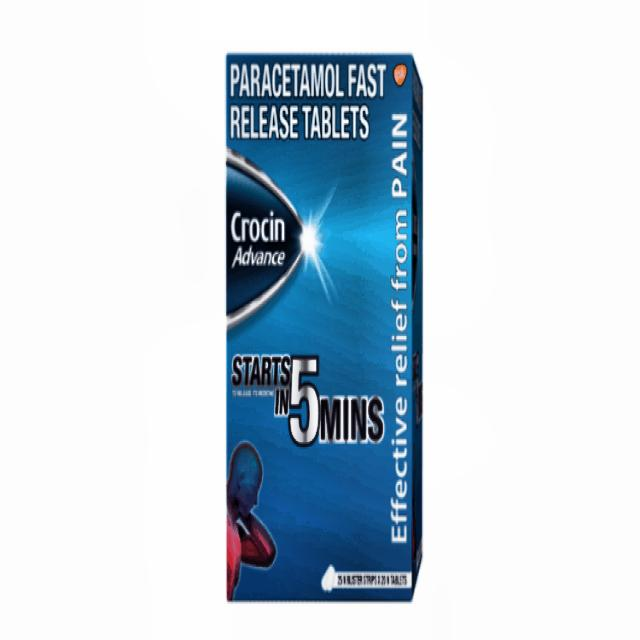Crocin: (227, 143, 309, 332)
